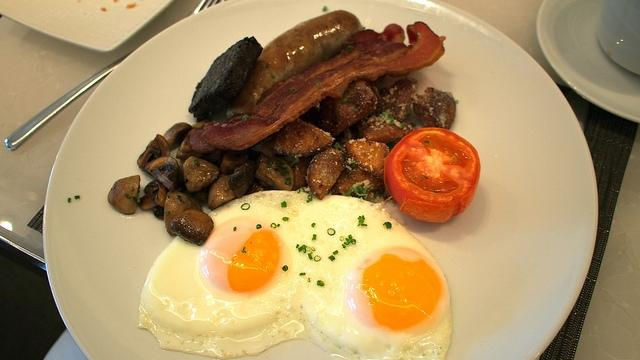green onion: (356, 184, 364, 194), (298, 244, 308, 252), (240, 203, 250, 210), (328, 228, 336, 236), (383, 222, 392, 229), (280, 170, 290, 176), (334, 142, 342, 149), (297, 187, 305, 194), (342, 238, 350, 245), (242, 114, 248, 122), (317, 280, 324, 286), (358, 216, 364, 223), (132, 196, 138, 203), (281, 200, 287, 207), (314, 256, 321, 262), (348, 239, 356, 244), (282, 265, 288, 271), (270, 222, 276, 228), (306, 198, 313, 203), (290, 88, 298, 92), (316, 82, 322, 87), (74, 195, 80, 200), (256, 224, 262, 229), (282, 217, 289, 221), (68, 197, 72, 203), (312, 234, 316, 240), (312, 222, 316, 228), (300, 272, 306, 276), (332, 250, 338, 254), (303, 248, 306, 253), (234, 226, 236, 231), (242, 247, 245, 250)
mushroom: (318, 79, 385, 136), (412, 87, 456, 130), (378, 77, 419, 122), (165, 191, 202, 236), (170, 209, 214, 246), (254, 154, 295, 192), (183, 156, 221, 193), (107, 175, 141, 215), (145, 156, 179, 190), (137, 134, 170, 168), (208, 174, 236, 211), (228, 161, 256, 198), (139, 179, 167, 210), (164, 122, 192, 151), (220, 149, 250, 175), (152, 205, 164, 220)
tomato: (384, 127, 481, 222)
